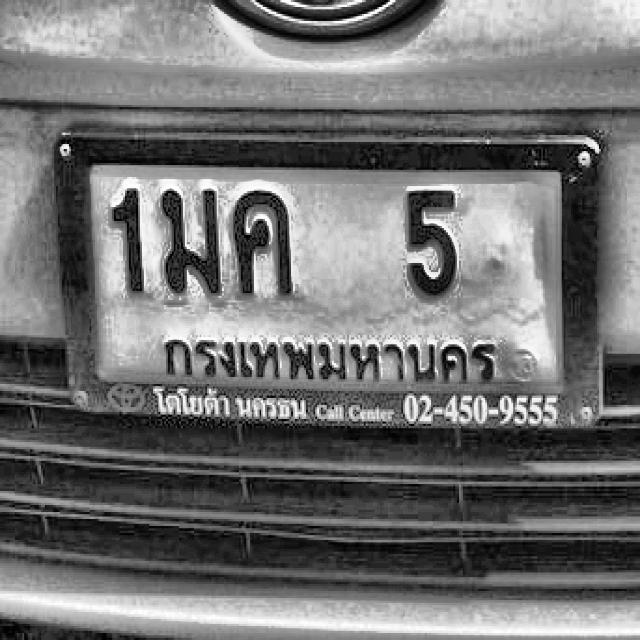license-plate: (48, 112, 615, 452)
